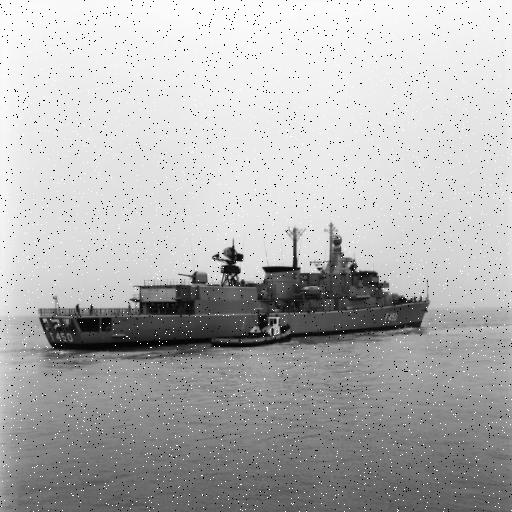Fragata: (38, 217, 437, 356)
